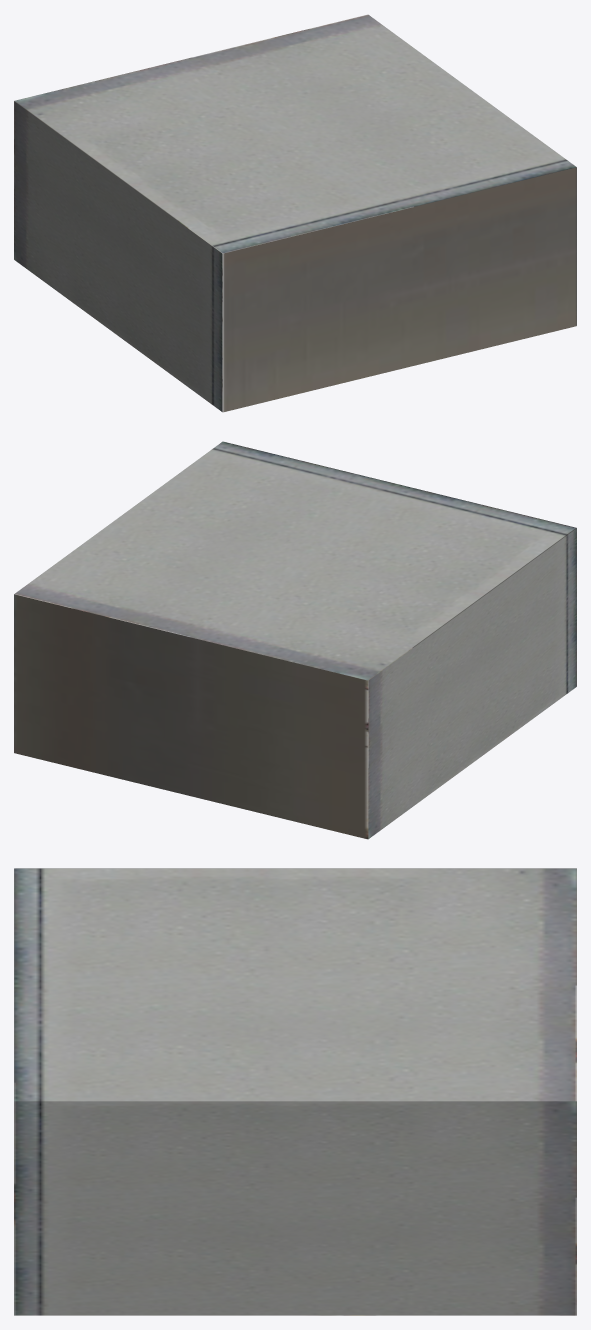
File: jcq005-geode.glb
3 renders of one model, top to bottom at view 1: azimuth 30°, elevation 25°; view 2: azimuth 150°, elevation 25°; view 3: azimuth 270°, elevation 25°, orthographic. The views are drawn at different scales.
Parts seen in each view (by area): view 1: Node; view 2: Node; view 3: Node.
Boxes of the visible parts, box(x1,y1,x2,y2) form: Node: box(14, 14, 576, 412); Node: box(14, 441, 576, 839); Node: box(14, 868, 576, 1315).
Size of the model in its own units: 0.6183 by 0.2649 by 0.6313.
Materials: 1 (1 with a texture image).
